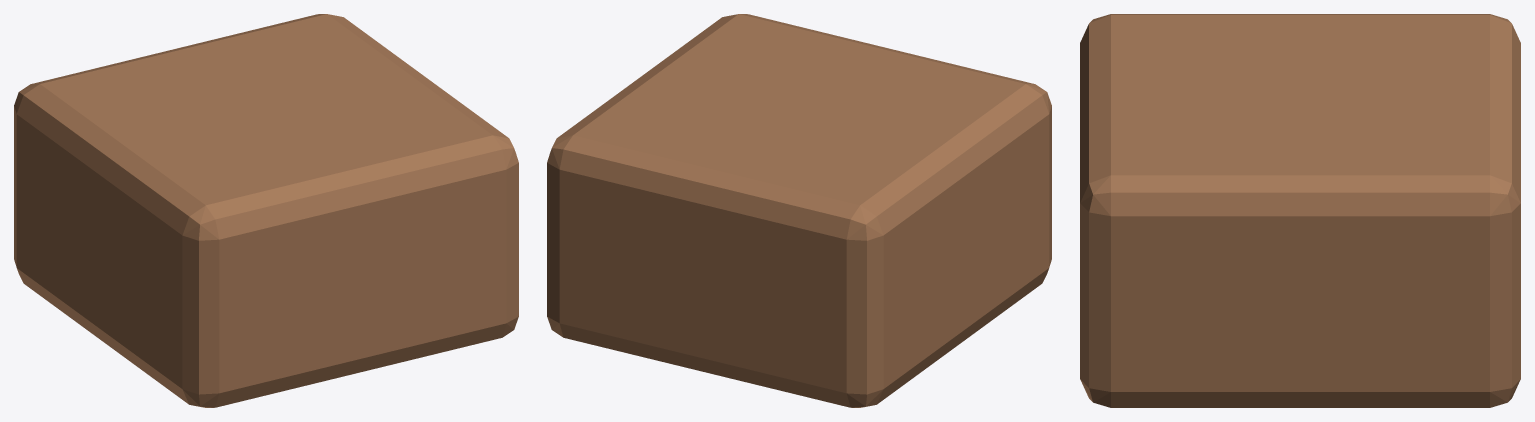
Rendered from Cliff.fbx.
3 views of the same model, side by side, from view 1: azimuth 30°, elevation 25°; view 2: azimuth 150°, elevation 25°; view 3: azimuth 270°, elevation 25° (orthographic). The views are drawn at different scales.
Parts seen in each view (by area): view 1: Cliff.001; view 2: Cliff.001; view 3: Cliff.001.
Part boxes in pixels (bbox=[...]): Cliff.001: bbox=[14, 14, 518, 407]; Cliff.001: bbox=[547, 14, 1051, 407]; Cliff.001: bbox=[1080, 14, 1520, 407].
Bounding box in the file's own units: 100 × 58 × 100.
